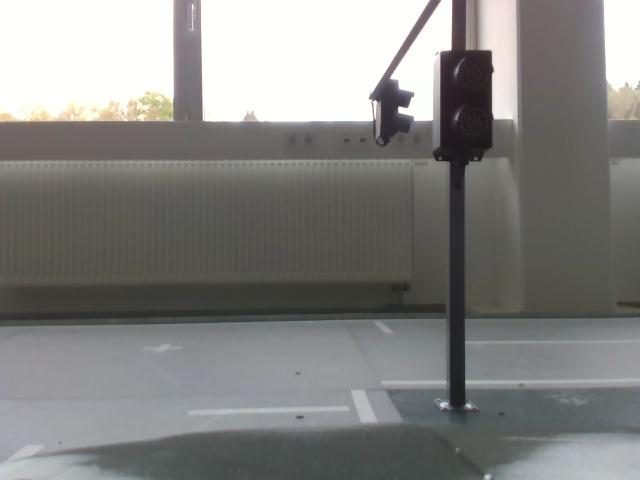traffic light: (430, 50, 493, 159), (374, 81, 419, 143)
